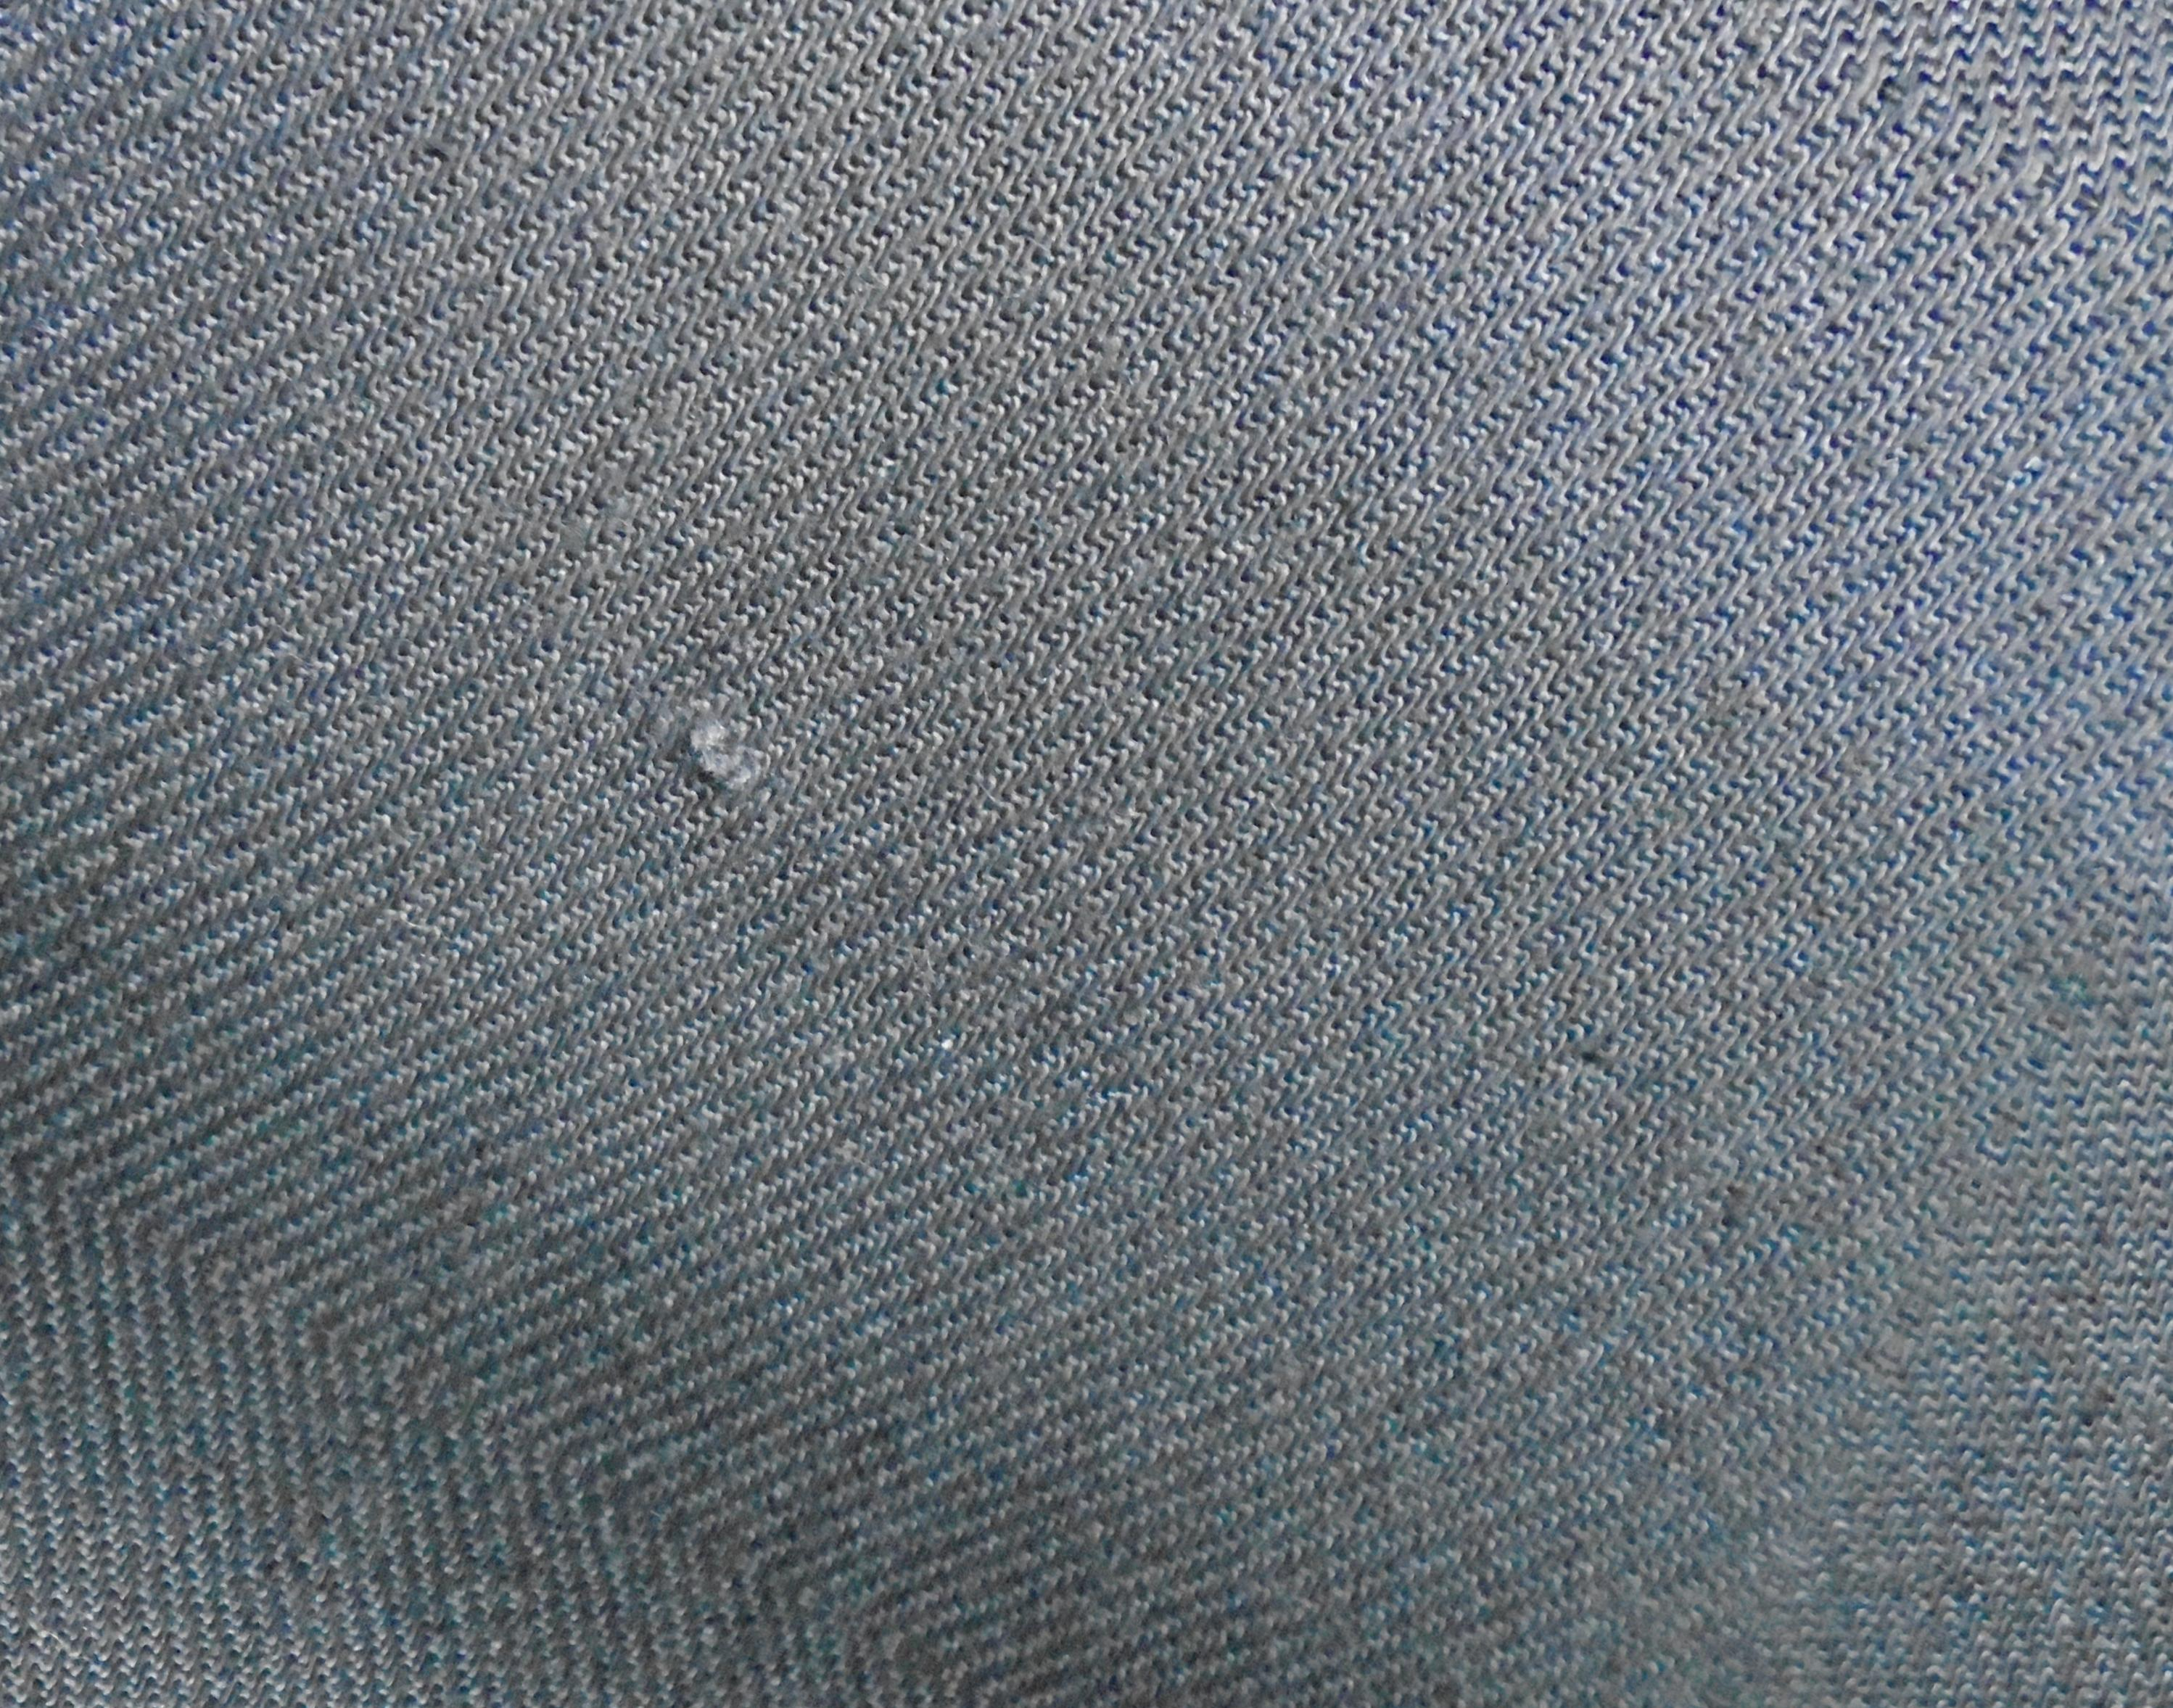knot: (646, 669, 799, 815)
